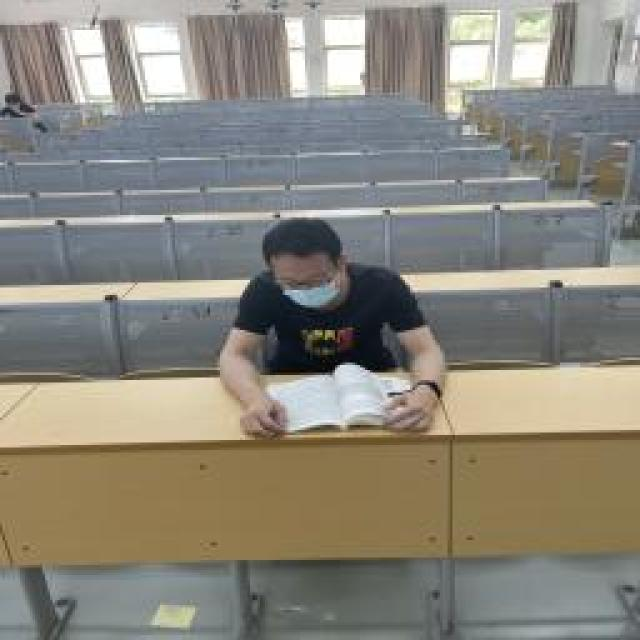study: (218, 218, 448, 438)
